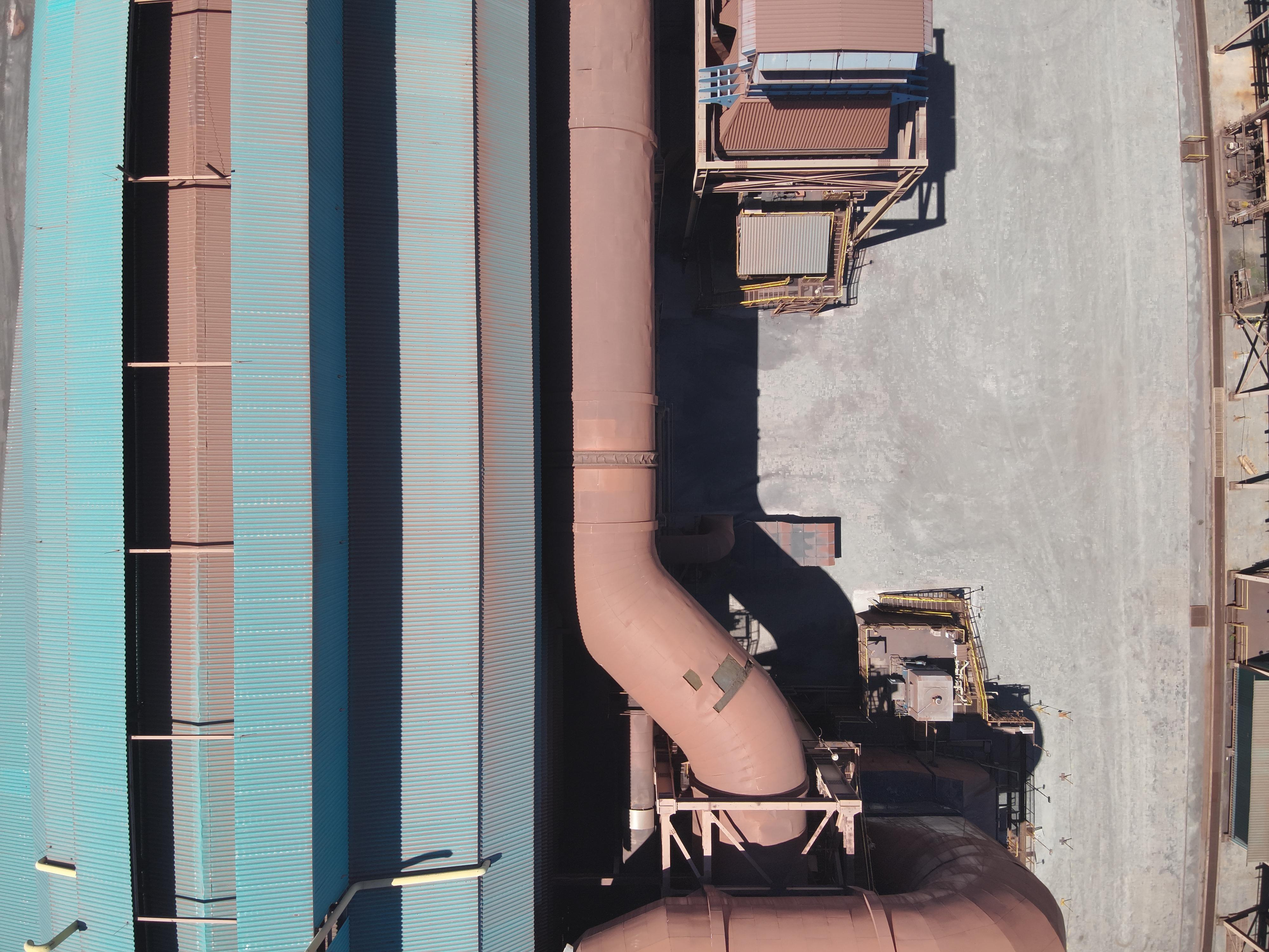Failures: (712, 651, 743, 692), (712, 691, 740, 714), (683, 667, 704, 693), (743, 657, 754, 684)
